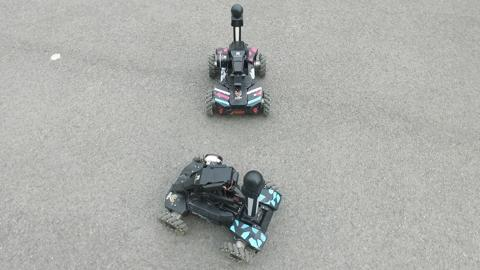chariot: (149, 144, 300, 267), (190, 2, 278, 125)
